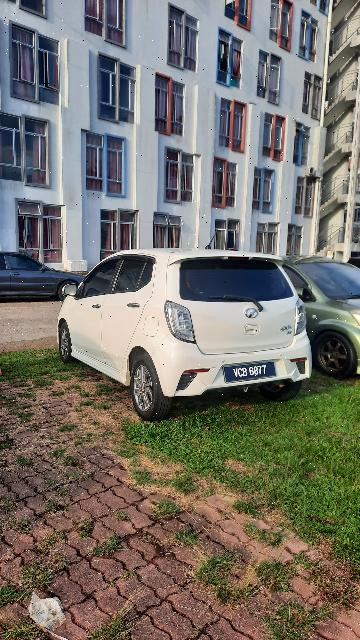License_Plate: (224, 363, 274, 384)
car: (59, 249, 314, 419), (282, 260, 360, 379), (1, 253, 85, 302)
